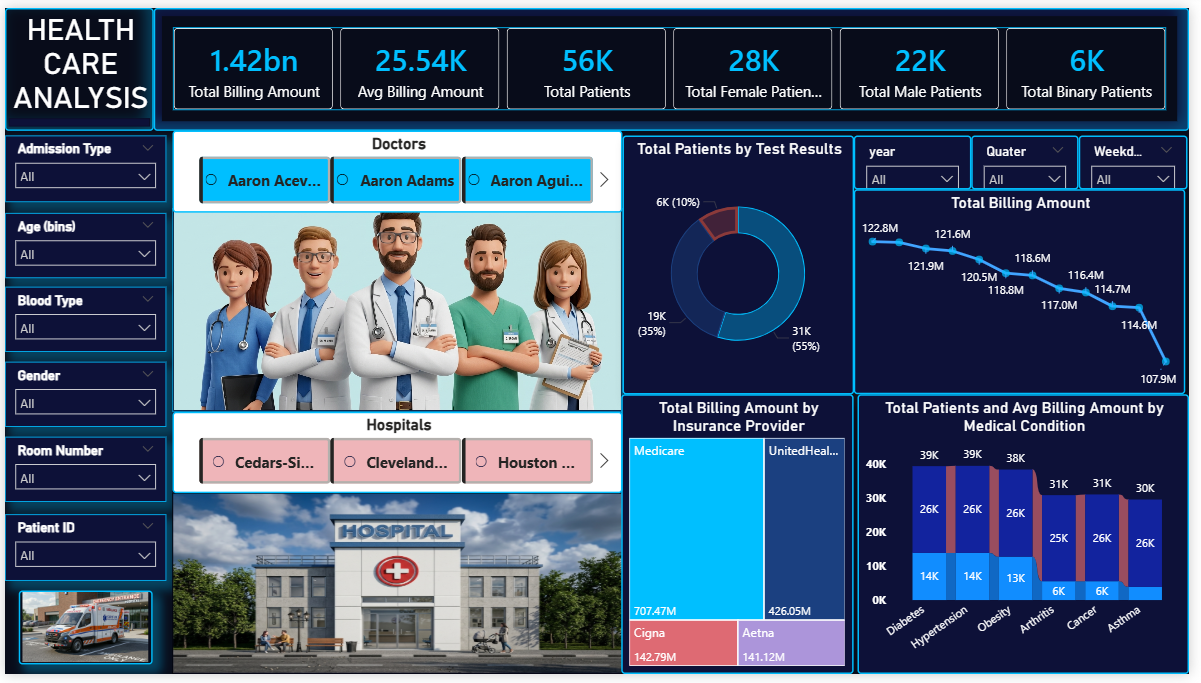

The page's visual inventory and layout, read from the dashboard file:
{"tool":"powerbi","page":{"name":"Page 1","canvas":[1280,720],"ordinal":0},"visuals":[{"type":"shape","box":[181.1,132.4,486.5,337.8],"z":0},{"type":"cardVisual","fields":{"Data":["MEASURE Table.Total Billing Amount","MEASURE Table.Avg Billing Amount","MEASURE Table.Total Patients","MEASURE Table.Total Female Patients","MEASURE Table.Total Male Patients","MEASURE Table.Total Binary Patients"]},"box":[160.8,0,1118.9,132.4],"z":1000},{"type":"slicer","fields":{"Values":["Data.Admission Type"]},"box":[0,137.8,174.3,71.6],"z":2000},{"type":"slicer","fields":{"Values":["Data.Age (bins)"]},"box":[0,221.6,174.3,70.3],"z":3000},{"type":"slicer","fields":{"Values":["Data.Blood Type"]},"box":[0,301.4,174.3,70.3],"z":4000},{"type":"slicer","fields":{"Values":["Data.Gender"]},"box":[0,382.4,174.3,70.3],"z":5000},{"type":"slicer","fields":{"Values":["Data.Room Number"]},"box":[0,463.5,174.3,70.3],"z":6000},{"type":"slicer","fields":{"Values":["Data.Patient ID"]},"box":[0,547.3,174.3,71.6],"z":7000},{"type":"image","box":[181.1,216.2,486.5,220.3],"z":8000},{"type":"advancedSlicerVisual","title":"Doctors","fields":{"Values":["Data.Doctor"]},"box":[181.1,132.4,486.5,89.2],"z":9000},{"type":"shape","box":[181.1,482.4,486.5,237.8],"z":10000},{"type":"image","box":[181.1,524.3,486.5,195.9],"z":11000},{"type":"image","box":[14.9,629.7,144.6,79.7],"z":12000},{"type":"donutChart","fields":{"Category":["Data.Test Results"],"Y":["MEASURE Table.Total Patients"]},"box":[667.6,137.8,250,279.7],"z":13000},{"type":"treemap","fields":{"Group":["Data.Insurance Provider"],"Values":["MEASURE Table.Total Billing Amount"]},"box":[666.2,417.6,251.4,302.7],"z":14000},{"type":"advancedSlicerVisual","title":"Hospitals","fields":{"Values":["Data.Hospital"]},"box":[181.1,436.5,486.5,87.8],"z":15000},{"type":"lineChart","title":"Total Billing Amount","fields":{"Y":["MEASURE Table.Total Billing Amount"],"Category":["Calender Admission_date Table.Month"]},"box":[917.6,195.9,358.1,221.6],"z":16000},{"type":"columnChart","fields":{"Y":["MEASURE Table.Total Patients","MEASURE Table.Avg Billing Amount"],"Category":["Data.Medical Condition"]},"box":[921.6,417.6,358.1,302.7],"z":17000},{"type":"slicer","fields":{"Values":["Calender Admission_date Table.year"]},"box":[917.6,137.8,127,58.1],"z":18000},{"type":"slicer","fields":{"Values":["Calender Admission_date Table.Quater"]},"box":[1044.6,137.8,116.2,58.1],"z":19000},{"type":"slicer","fields":{"Values":["Calender Admission_date Table.Weekday"]},"box":[1160.8,137.8,117.6,58.1],"z":20000},{"type":"shape","title":"HEALTH CARE ANALYSIS","box":[0,0,160.8,132.4],"z":21000}]}

Visuals, with their boxes in screenshot pixels (x1, y1, x2, y2), scaled from the page's 1280x720 canvas onto the 1201x683 screenshot:
shape: <region>170, 126, 626, 446</region>
cardVisual - MEASURE Table.Total Billing Amount x MEASURE Table.Avg Billing Amount: <region>151, 0, 1200, 126</region>
slicer - Data.Admission Type: <region>0, 131, 164, 199</region>
slicer - Data.Age (bins): <region>0, 210, 164, 277</region>
slicer - Data.Blood Type: <region>0, 286, 164, 353</region>
slicer - Data.Gender: <region>0, 363, 164, 429</region>
slicer - Data.Room Number: <region>0, 440, 164, 506</region>
slicer - Data.Patient ID: <region>0, 519, 164, 587</region>
image: <region>170, 205, 626, 414</region>
"Doctors" advancedSlicerVisual: <region>170, 126, 626, 210</region>
shape: <region>170, 458, 626, 682</region>
image: <region>170, 497, 626, 682</region>
image: <region>14, 597, 150, 673</region>
donutChart - Data.Test Results x MEASURE Table.Total Patients: <region>626, 131, 861, 396</region>
treemap - Data.Insurance Provider x MEASURE Table.Total Billing Amount: <region>625, 396, 861, 682</region>
"Hospitals" advancedSlicerVisual: <region>170, 414, 626, 497</region>
"Total Billing Amount" lineChart: <region>861, 186, 1197, 396</region>
columnChart - MEASURE Table.Total Patients x MEASURE Table.Avg Billing Amount: <region>865, 396, 1200, 682</region>
slicer - Calender Admission_date Table.year: <region>861, 131, 980, 186</region>
slicer - Calender Admission_date Table.Quater: <region>980, 131, 1089, 186</region>
slicer - Calender Admission_date Table.Weekday: <region>1089, 131, 1199, 186</region>
"HEALTH CARE ANALYSIS" shape: <region>0, 0, 151, 126</region>
